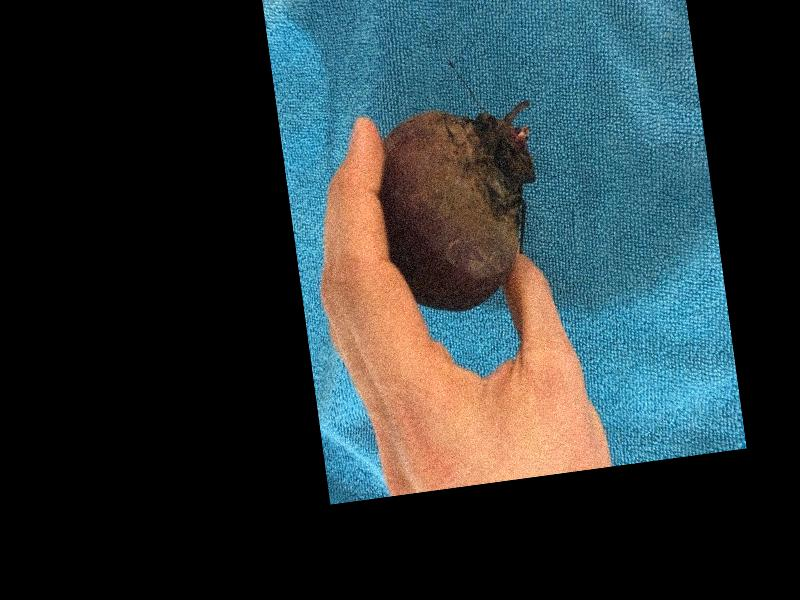Beet: (370, 98, 554, 317)
